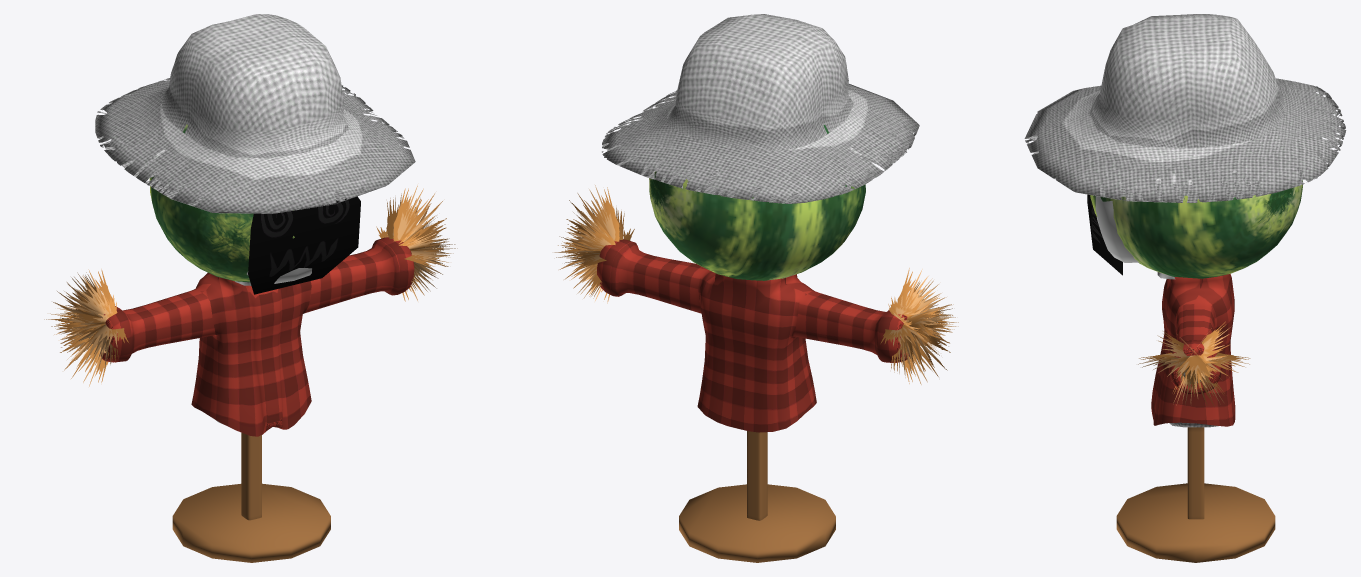
Rendered from Melon Scarecrow Hand.fbx.
3 views of the same model, side by side, from view 1: azimuth 30°, elevation 25°; view 2: azimuth 150°, elevation 25°; view 3: azimuth 270°, elevation 25° (orthographic).
Parts seen in each view (by area): view 1: Akubra, Shirt, Scarecrow, Grass (×2), Face, Mellon (2); view 2: Akubra, Shirt, Mellon (2), Scarecrow, Grass (×2); view 3: Akubra, Mellon (2), Scarecrow, Shirt, Grass, CharHeadManaquin (1), Face.
Boxes of the visible parts, left/top/right/bottom form: Akubra: left=95, top=14, right=415, bottom=213; Shirt: left=101, top=237, right=414, bottom=436; Scarecrow: left=105, top=348, right=330, bottom=562; Grass (×2): left=44, top=185, right=457, bottom=386; Face: left=248, top=196, right=360, bottom=294; Mellon (2): left=149, top=124, right=294, bottom=282; Akubra: left=602, top=14, right=919, bottom=203; Shirt: left=597, top=239, right=909, bottom=432; Mellon (2): left=649, top=124, right=865, bottom=280; Scarecrow: left=679, top=431, right=835, bottom=562; Grass (×2): left=554, top=185, right=958, bottom=384; Akubra: left=1024, top=14, right=1346, bottom=202; Mellon (2): left=1090, top=180, right=1302, bottom=278; Scarecrow: left=1116, top=372, right=1275, bottom=562; Shirt: left=1151, top=274, right=1235, bottom=426; Grass: left=1138, top=321, right=1250, bottom=406; CharHeadManaquin (1): left=1095, top=196, right=1175, bottom=279; Face: left=1087, top=194, right=1122, bottom=275.
Size of the model in its own units: 1.04 by 1.19 by 0.6984.
